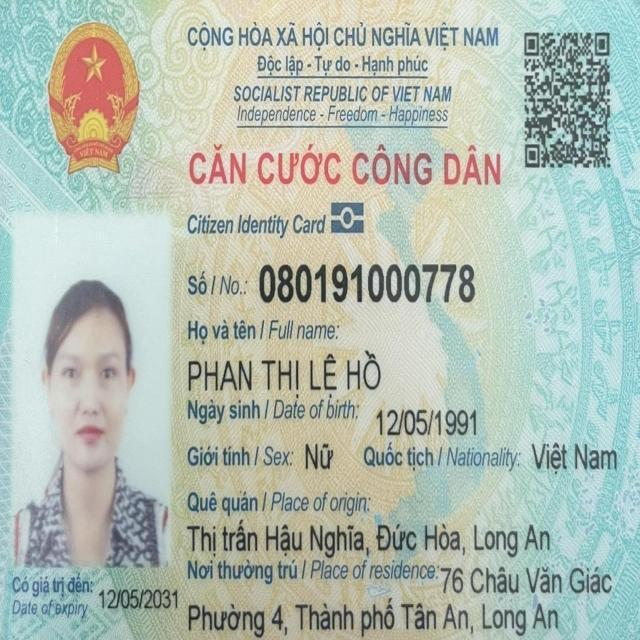current_place: (189, 596, 556, 637), (440, 565, 614, 595)
dob: (375, 408, 480, 438)
expire_date: (99, 588, 178, 611)
gender: (305, 441, 334, 471)
id: (258, 261, 476, 305)
name: (184, 348, 383, 399)
nationality: (531, 440, 619, 477)
origin_place: (188, 517, 552, 557)
